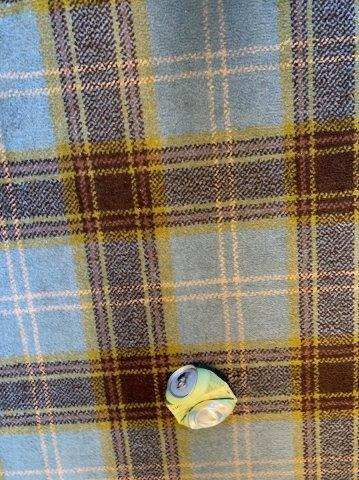kaleng: (164, 365, 237, 430)
